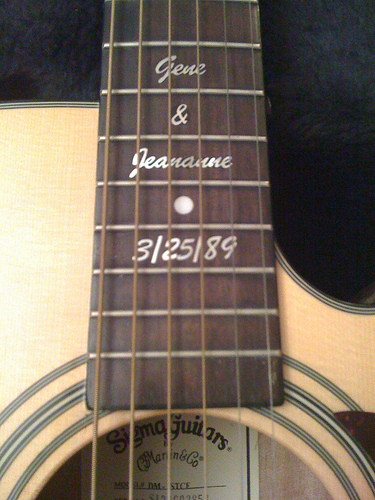guitar: (1, 1, 375, 499)
